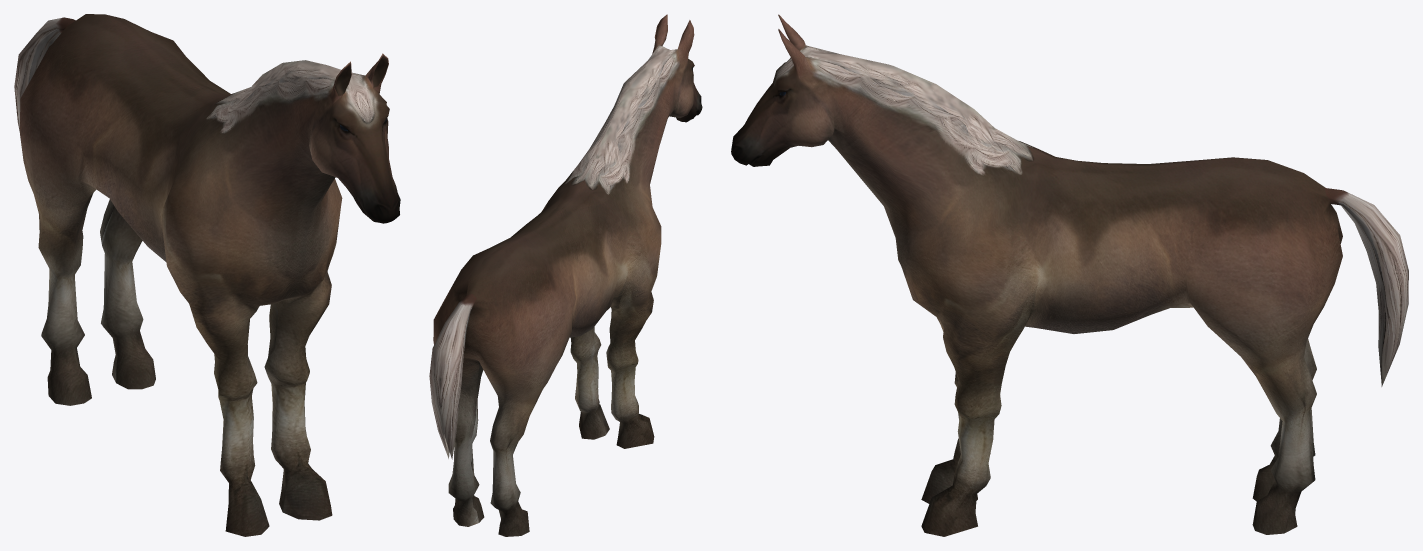
Rendered from Horse0.glb.
3 renders of one model, left to right at view 1: azimuth 30°, elevation 25°; view 2: azimuth 150°, elevation 25°; view 3: azimuth 270°, elevation 25°, orthographic. The views are drawn at different scales.
Visible parts, largest first — view 1: Horse0; view 2: Horse0; view 3: Horse0.
Boxes of the visible parts, x1,y1,x2,y2 form: Horse0: (14, 14, 400, 536); Horse0: (429, 14, 702, 536); Horse0: (731, 14, 1408, 536).
Bounding box in the file's own units: 0.6161 × 1.93 × 2.41.
Materials: 1 (1 with a texture image).
